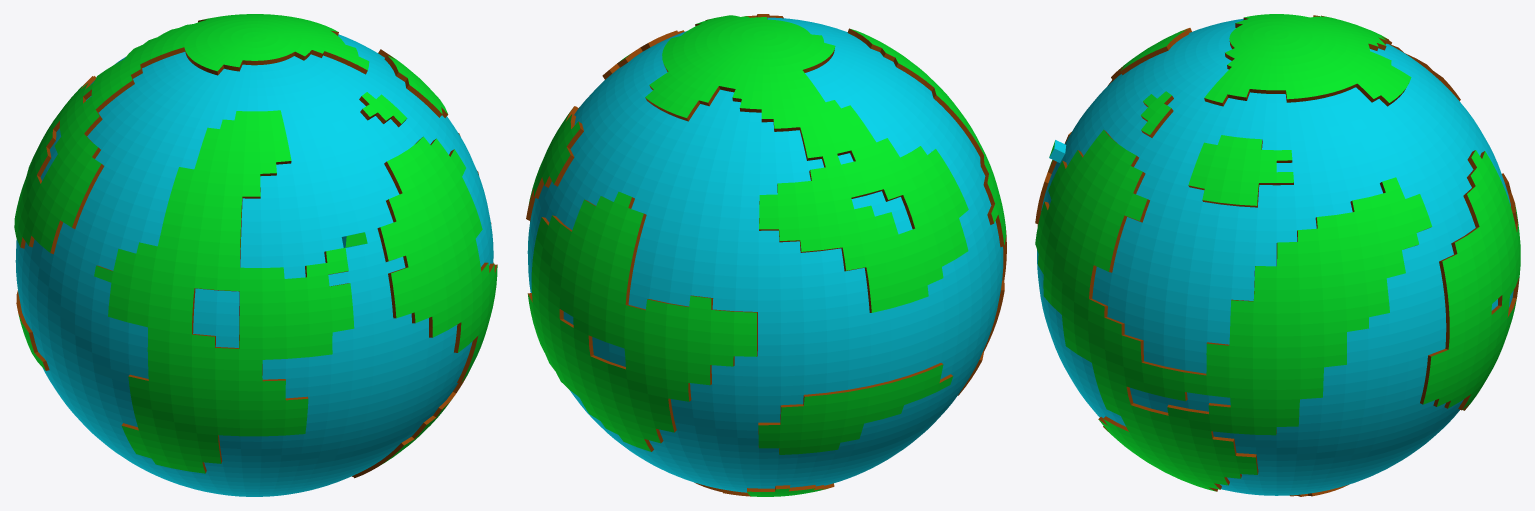
The model's file is Planet3.fbx.
The picture shows the model from 3 angles, left to right: view 1: azimuth 30°, elevation 25°; view 2: azimuth 150°, elevation 25°; view 3: azimuth 270°, elevation 25°; orthographic projection.
Visible parts, largest first — view 1: 球体; view 2: 球体; view 3: 球体.
Boxes of the visible parts, x1,y1,x2,y2 form: 球体: (14, 14, 497, 496); 球体: (526, 14, 1006, 496); 球体: (1035, 14, 1520, 496).
Size of the model in its own units: 470 by 468 by 472.
